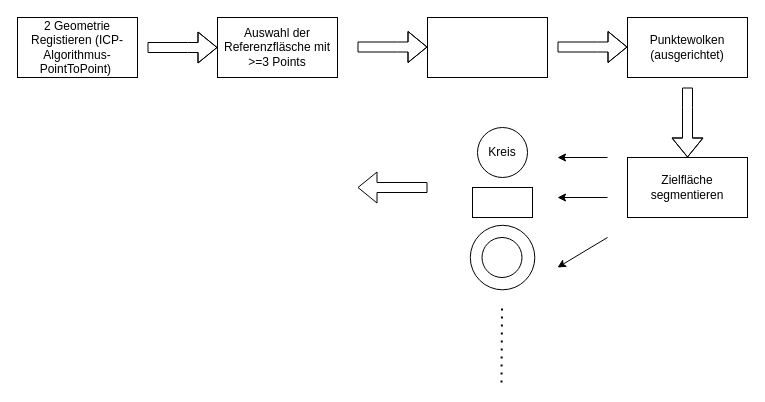
This 765x402 diagram has some shape labels left out. Each missing label, with the centre of its shape:
"Kalibrieren(Finetuning-Algorithmus)" belongs at [487,47].
"Rechtecke" belongs at [502,202].
"Ring" belongs at [501,257].
